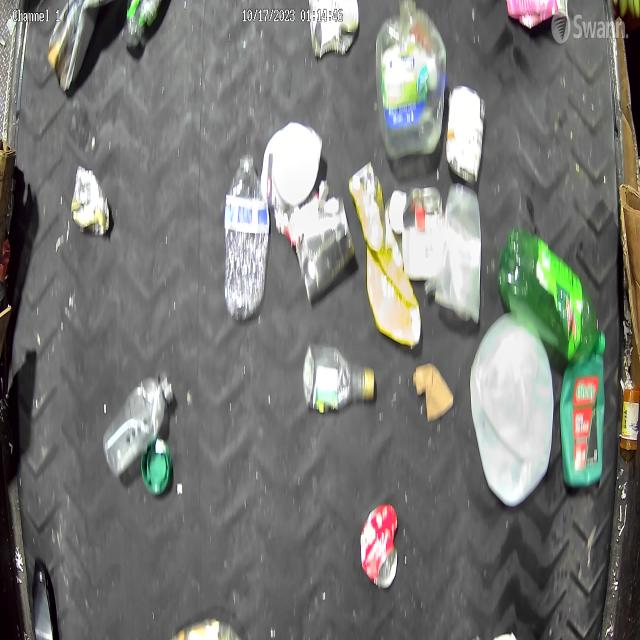milk-jug: (473, 314, 556, 516)
